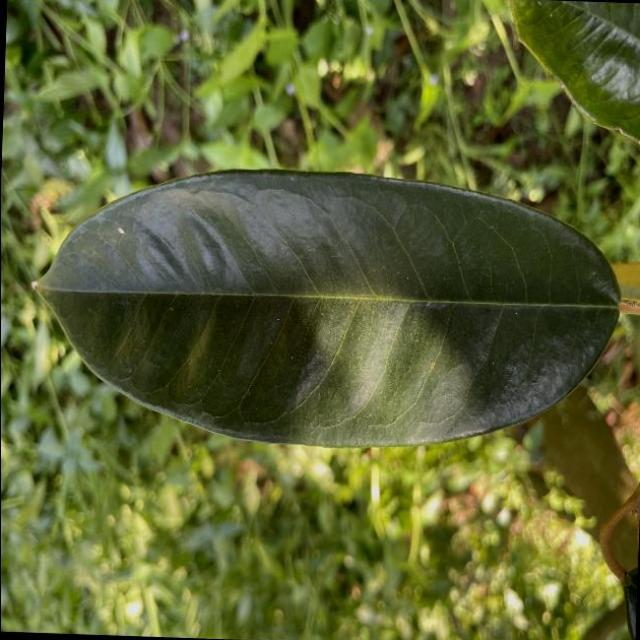No Disease: (18, 149, 632, 465)
